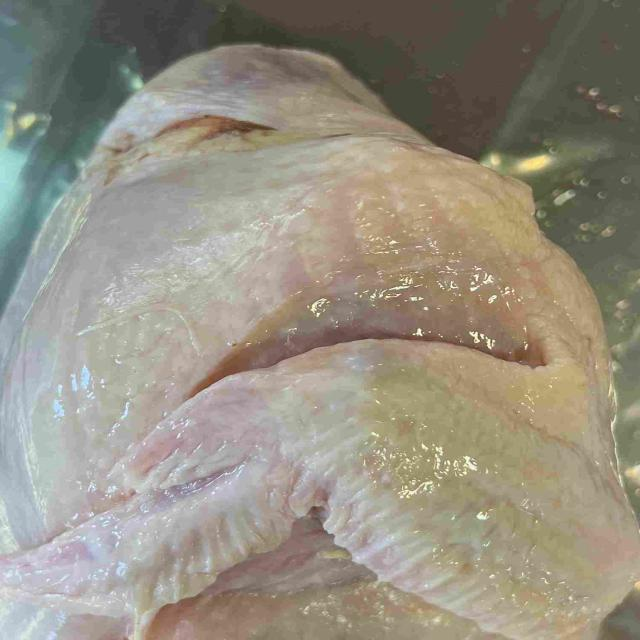wing: (0, 313, 640, 634)
